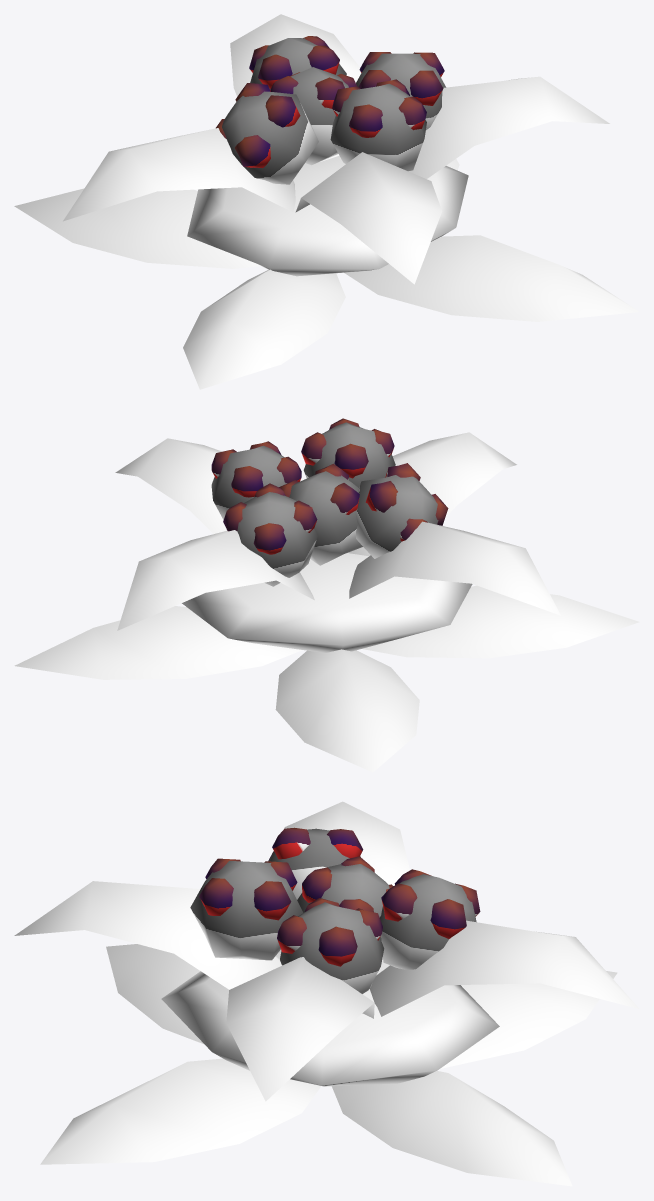
The model's file is Plant_4.fbx.
The picture shows the model from 3 angles, top to bottom: view 1: azimuth 30°, elevation 25°; view 2: azimuth 150°, elevation 25°; view 3: azimuth 270°, elevation 25°; orthographic projection. The views are drawn at different scales.
Parts seen in each view (by area): view 1: polySurface6; view 2: polySurface6; view 3: polySurface6.
Boxes of the visible parts, x1,y1,x2,y2 form: polySurface6: (14, 14, 639, 389); polySurface6: (14, 418, 639, 772); polySurface6: (14, 801, 639, 1186).
Bounding box in the file's own units: 171 × 63.11 × 167.
